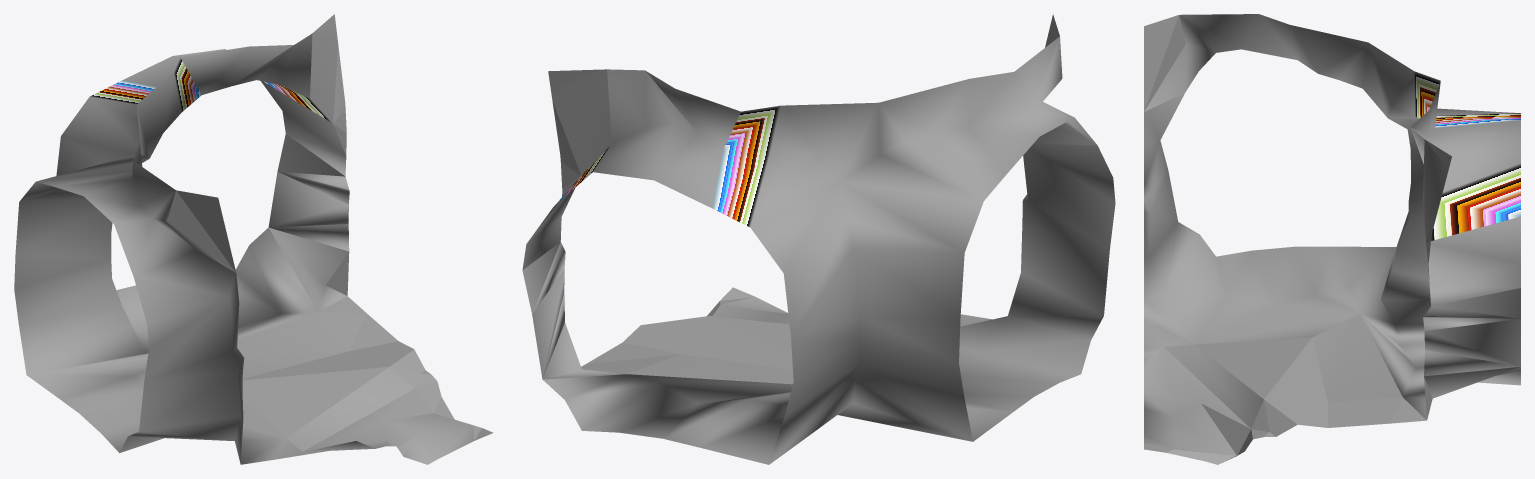
File: CornerFloor1Replacer6.fbx
3 views of the same model, side by side, from view 1: azimuth 30°, elevation 25°; view 2: azimuth 150°, elevation 25°; view 3: azimuth 270°, elevation 25° (orthographic). The views are drawn at different scales.
Visible parts, largest first — view 1: CornerFloor1Replacer_6; view 2: CornerFloor1Replacer_6; view 3: CornerFloor1Replacer_6.
Boxes of the visible parts, box(x1,y1,x2,y2) form: CornerFloor1Replacer_6: box(14, 14, 493, 464); CornerFloor1Replacer_6: box(522, 14, 1115, 464); CornerFloor1Replacer_6: box(1144, 14, 1520, 464).
Bounding box in the file's own units: 500 × 452 × 500.
